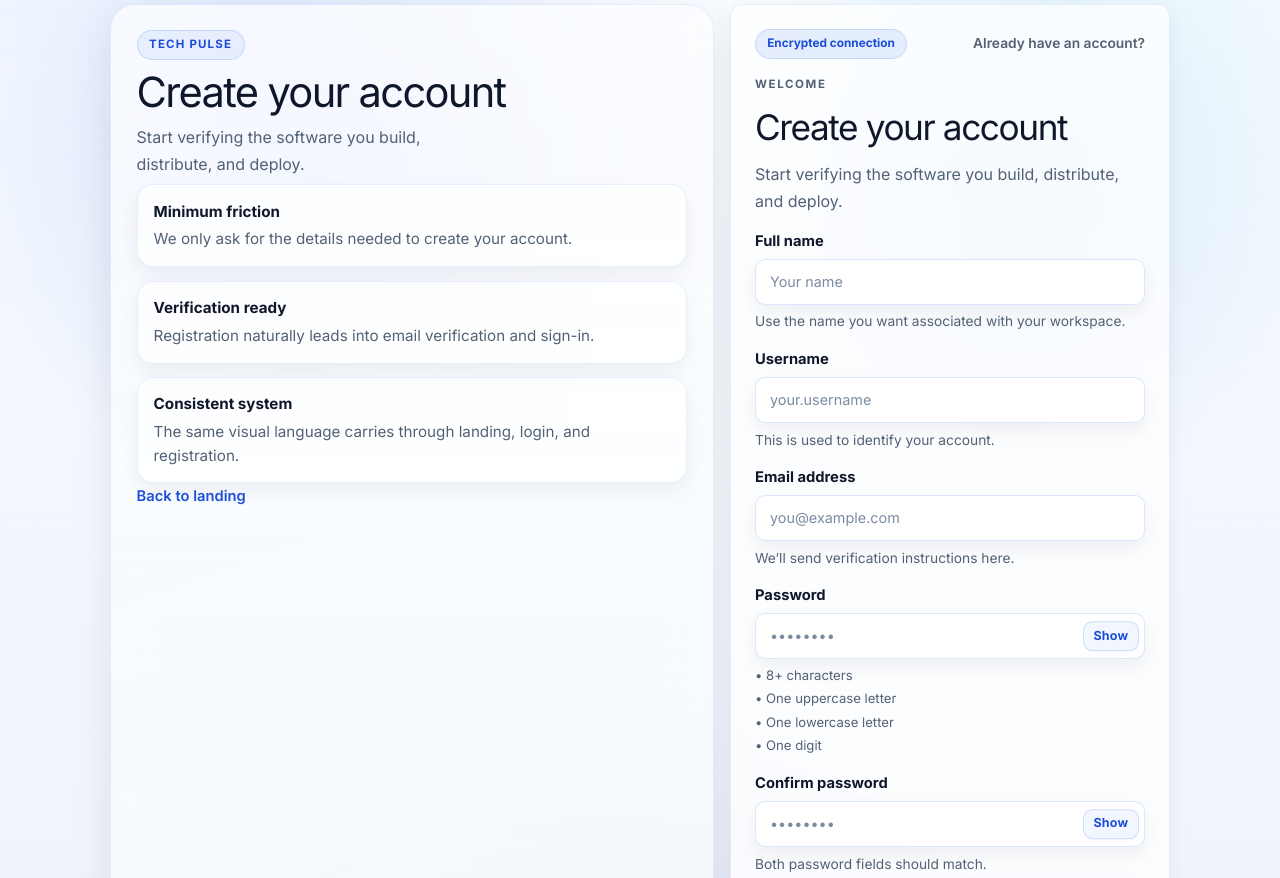
Scenario: RegisterRoutePage › reports an existing account
Step 1. Type "Ada Lovelace" into the field with placeholder "Your name" → (950,282), box 755,259 -> 1145,305
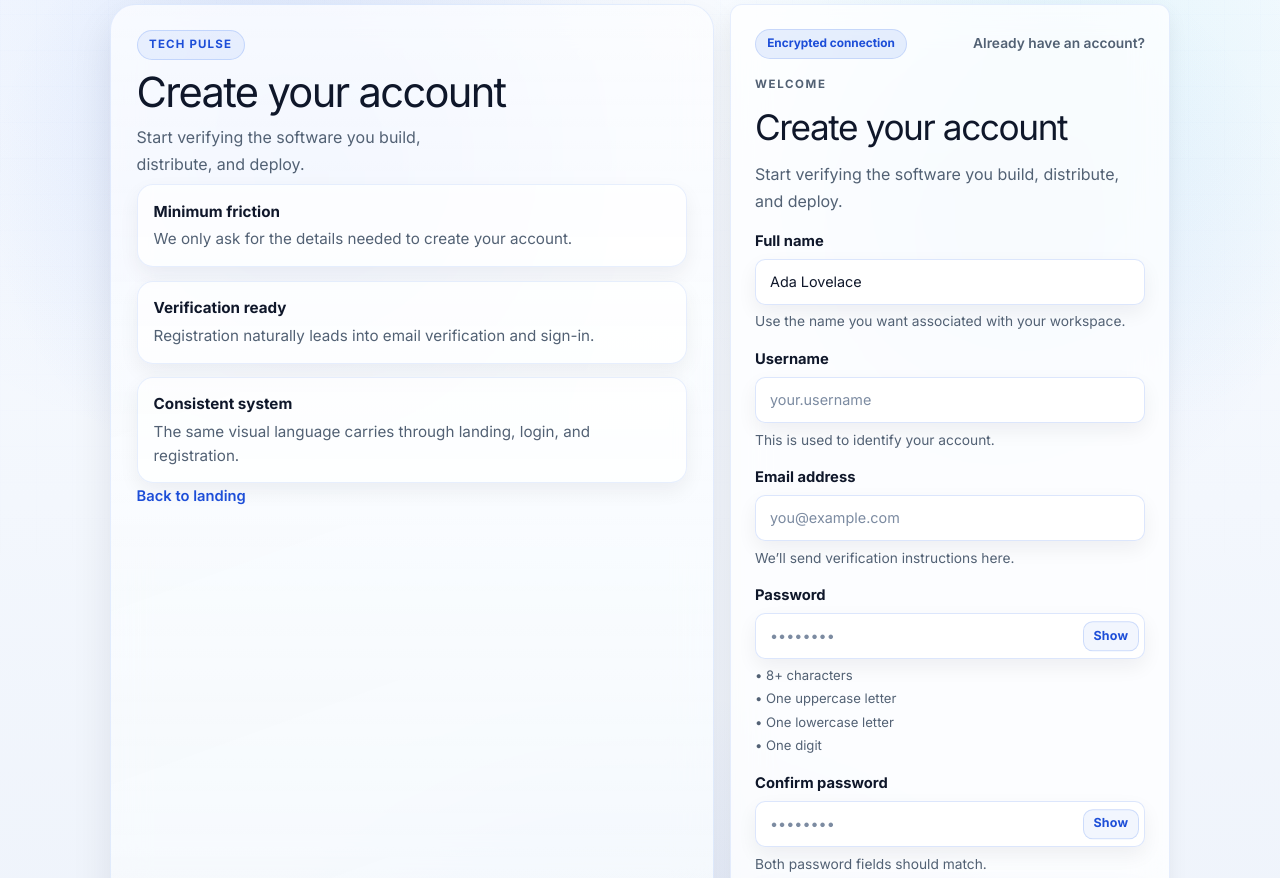
Step 2. Type "ada" into the field with placeholder "your.username" → (950,400), box 755,377 -> 1145,423
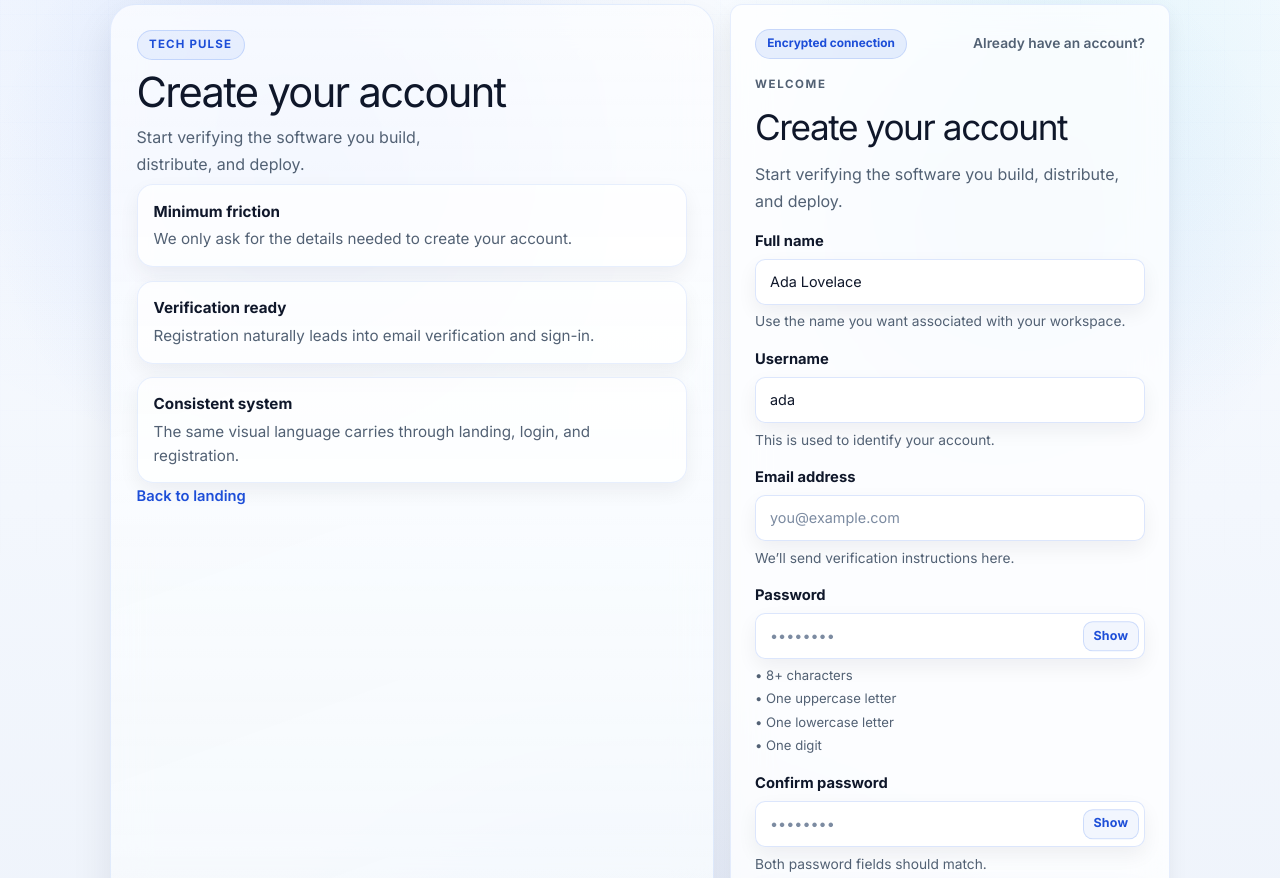
Step 3. Type "ada@example.test" into the field with placeholder "you@example.com" → (950,518), box 755,495 -> 1145,541
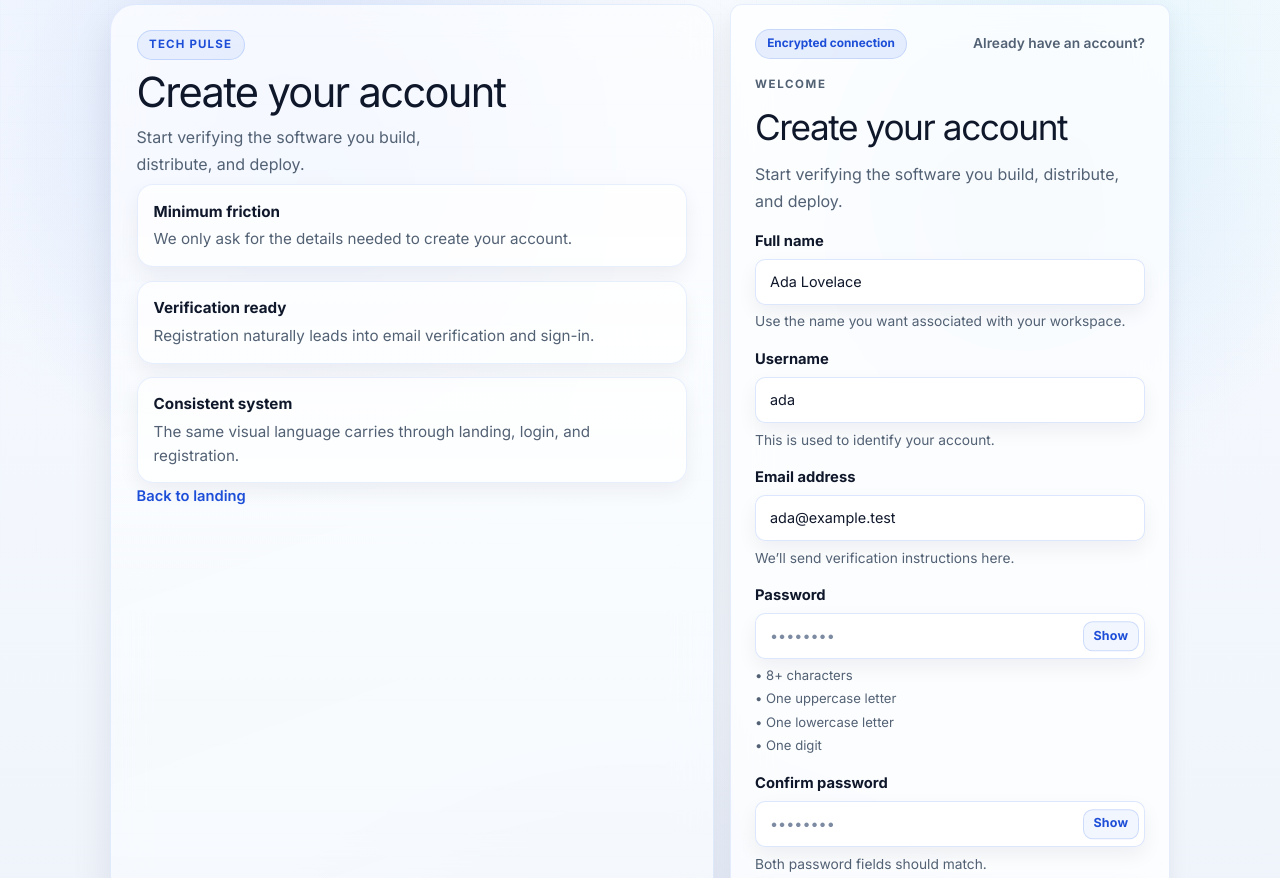
Step 4. Type "StrongPass1" into the 1st password field with placeholder "••••••••" → (950,636), box 755,613 -> 1145,659
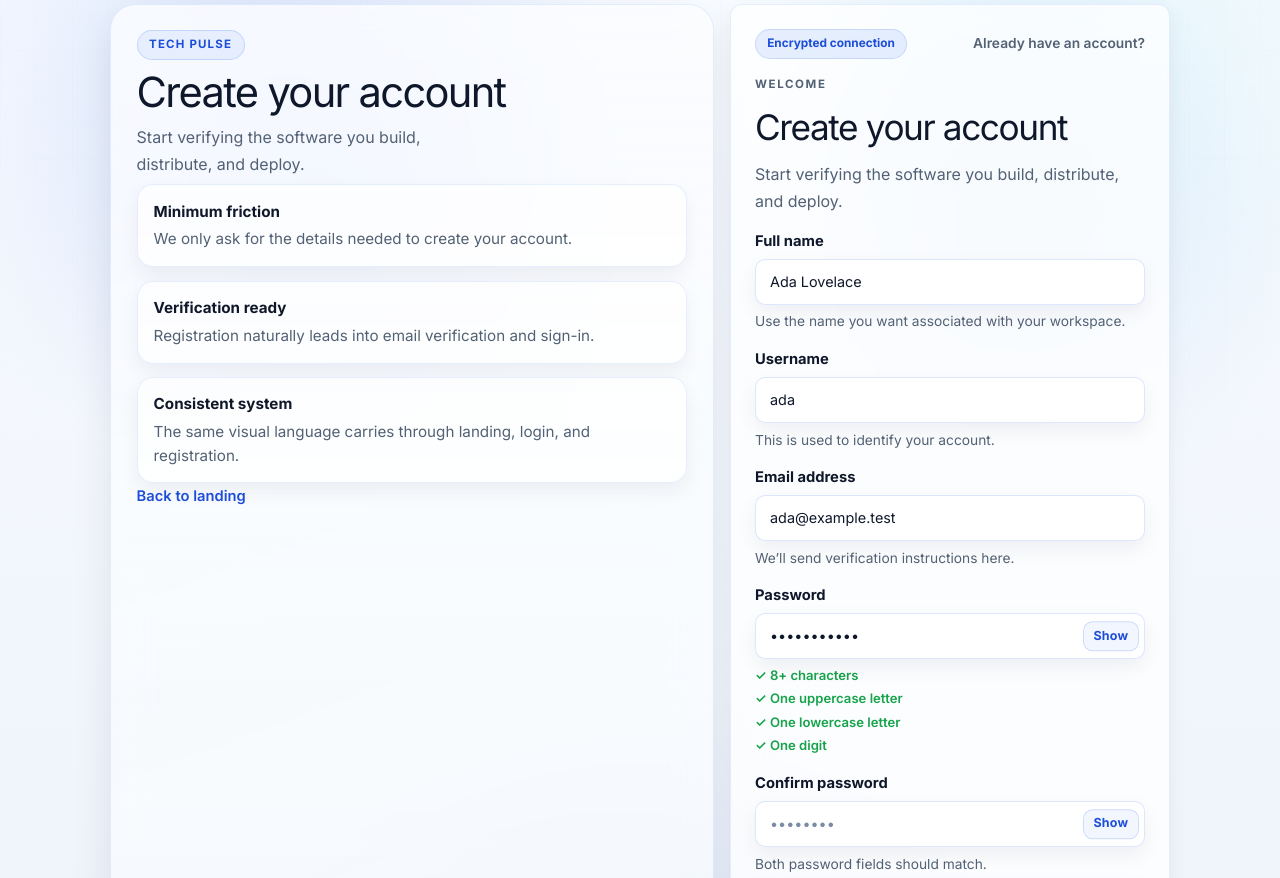
Step 5. Type "StrongPass1" into the password field with placeholder "••••••••" → (950,824), box 755,801 -> 1145,847
(page scrolled)
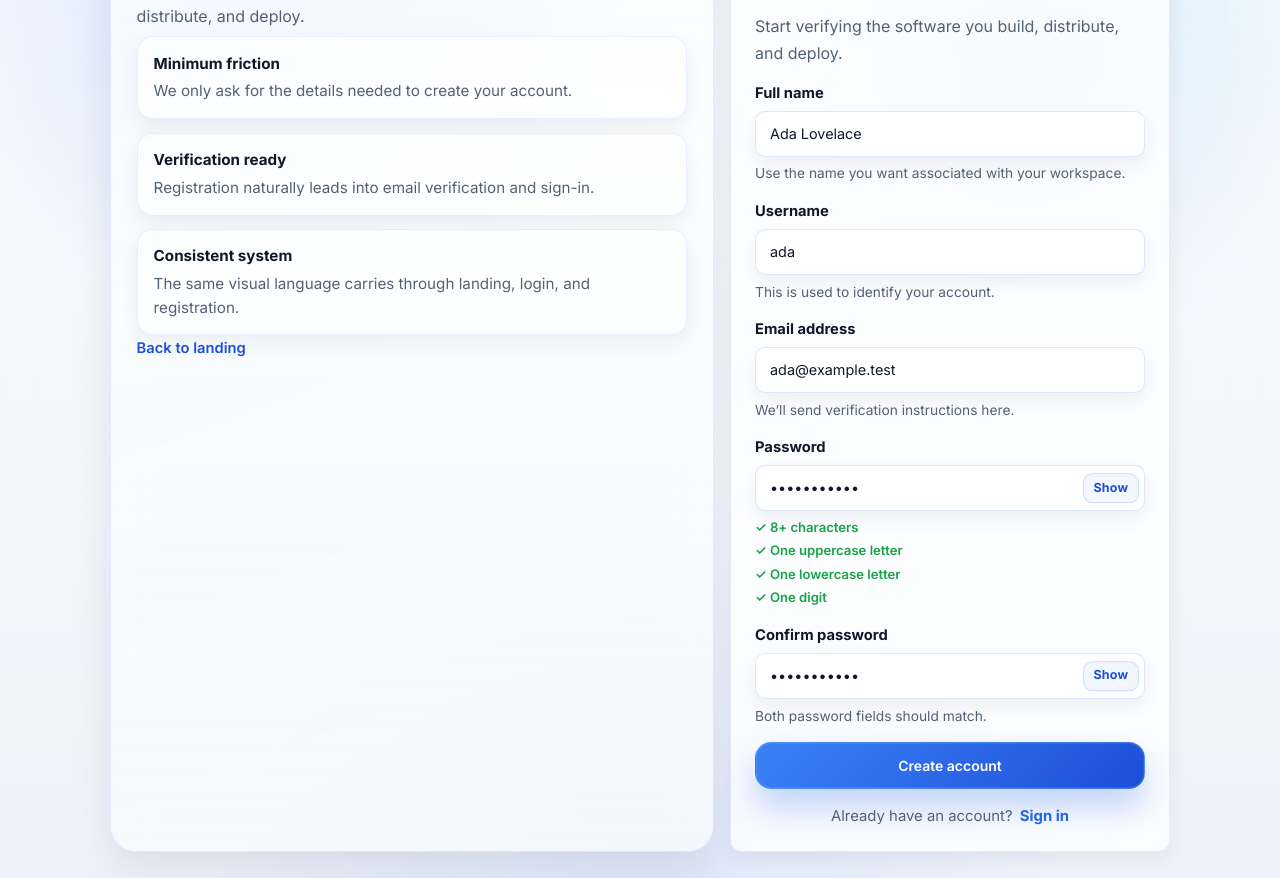
Step 6. Click the button "Create account" → (950,766), box 755,742 -> 1145,789
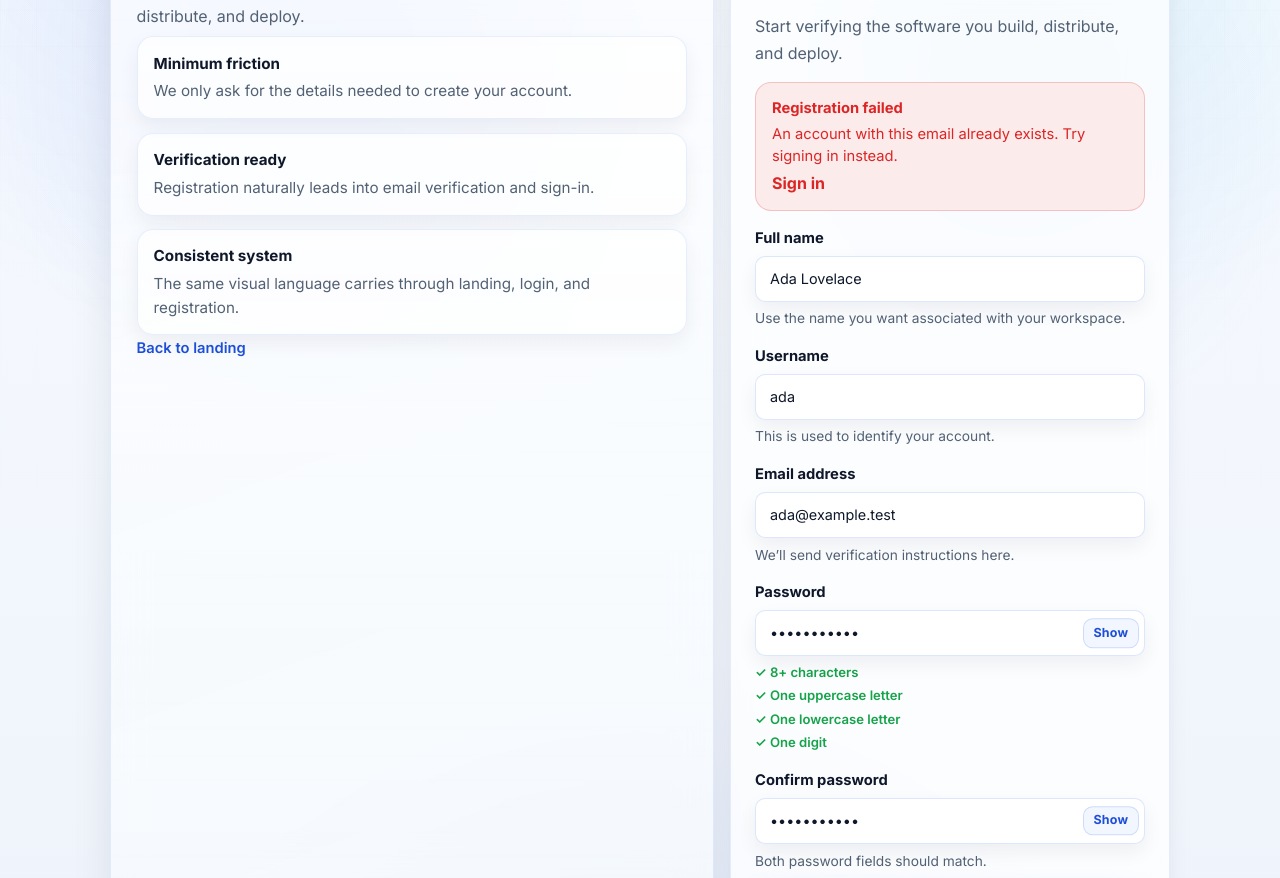
Result: the text "An account with this email already exists. Try signing in instead." is shown at 772,123 -> 1128,168
